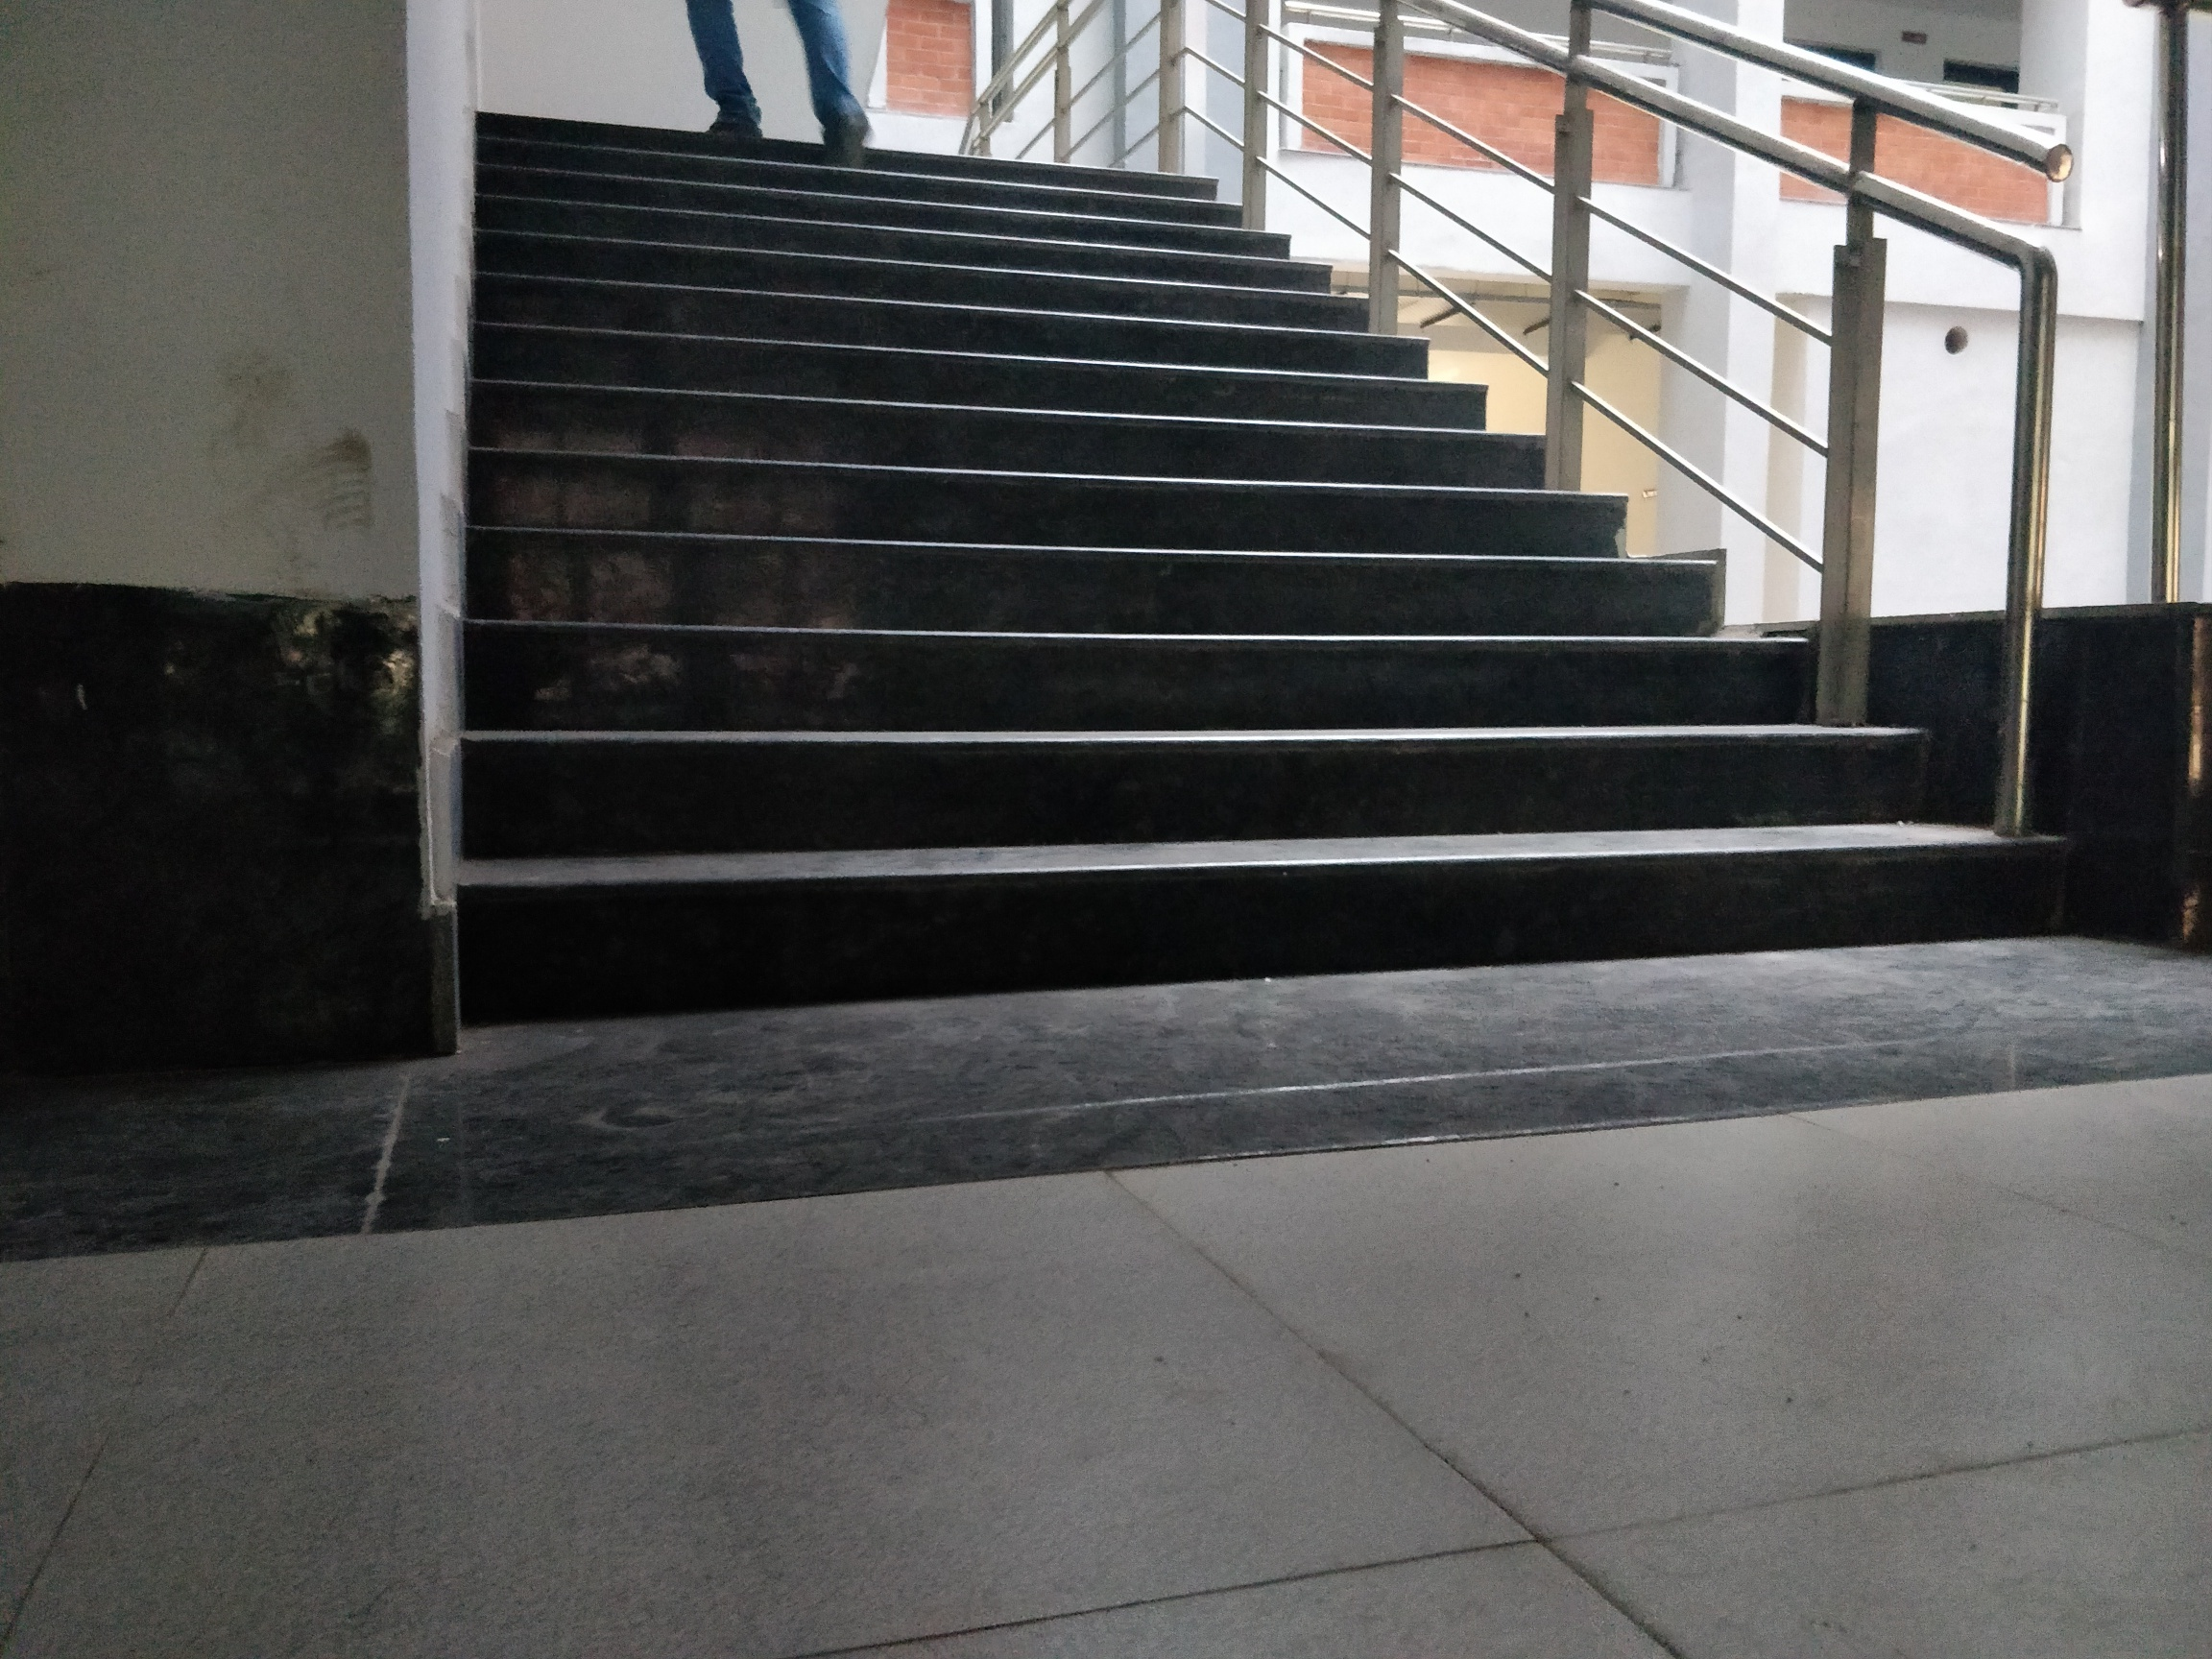stairs_up: (456, 92, 2013, 931)
